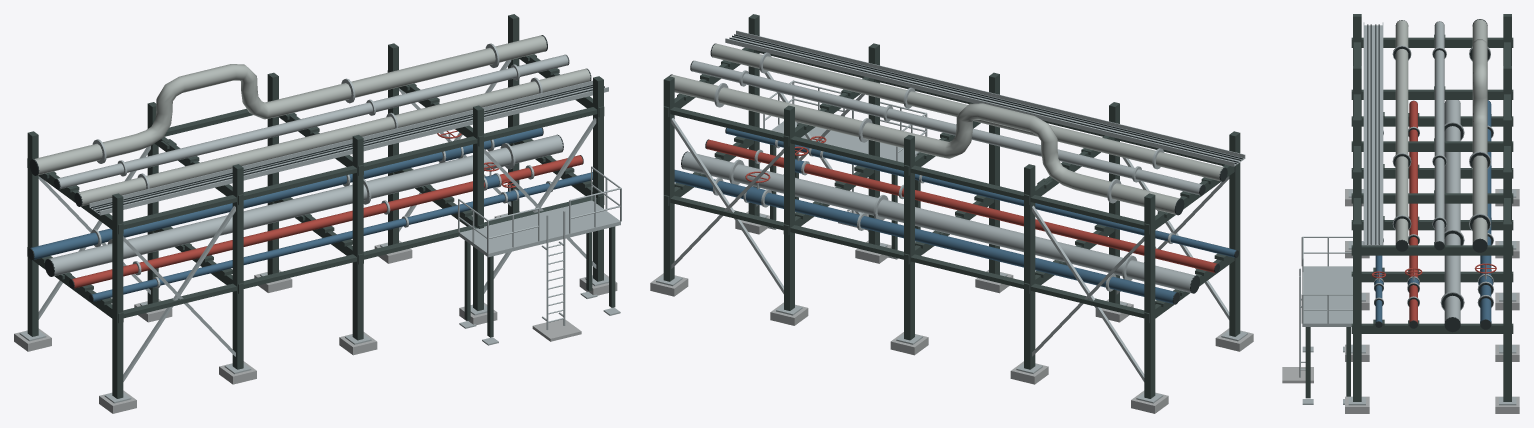
The model's file is process-pipe-rack.glb.
The picture shows the model from 3 angles, left to right: view 1: azimuth 30°, elevation 25°; view 2: azimuth 150°, elevation 25°; view 3: azimuth 270°, elevation 25°; orthographic projection. The views are drawn at different scales.
Visible parts, largest first — view 1: pipe_rack_structure_powder-coated-frame, process_utility_pipes_galvanized-steel, process_utility_pipes_brushed-metal-panels, process_utility_pipes_utility-blue, process-pipe-rack_galvanized-steel, pipe_rack_structure_galvanized-steel, process_utility_pipes_fire-protection-red, pipe_rack_structure_cast-concrete, process_utility_pipes_rubber-gaskets, process-pipe-rack_powder-coated-frame, process_utility_pipes_powder-coated-frame, process_utility_pipes_dark-service-metal (+1 smaller); view 2: pipe_rack_structure_powder-coated-frame, process_utility_pipes_galvanized-steel, process_utility_pipes_brushed-metal-panels, process_utility_pipes_utility-blue, pipe_rack_structure_galvanized-steel, process_utility_pipes_fire-protection-red, pipe_rack_structure_cast-concrete, process_utility_pipes_rubber-gaskets, process-pipe-rack_galvanized-steel, process_utility_pipes_powder-coated-frame, process_utility_pipes_dark-service-metal, process-pipe-rack_powder-coated-frame; view 3: pipe_rack_structure_powder-coated-frame, process_utility_pipes_galvanized-steel, process_utility_pipes_brushed-metal-panels, process-pipe-rack_galvanized-steel, process_utility_pipes_rubber-gaskets, pipe_rack_structure_cast-concrete, process_utility_pipes_fire-protection-red, process_utility_pipes_utility-blue, process_utility_pipes_dark-service-metal, process-pipe-rack_powder-coated-frame, pipe_rack_structure_galvanized-steel, process-pipe-rack_cast-concrete (+1 smaller).
Boxes of the visible parts, x1,y1,x2,y2 form: pipe_rack_structure_powder-coated-frame: [27, 14, 604, 398]; process_utility_pipes_galvanized-steel: [49, 43, 608, 288]; process_utility_pipes_brushed-metal-panels: [33, 35, 590, 206]; process_utility_pipes_utility-blue: [30, 127, 592, 301]; process-pipe-rack_galvanized-steel: [458, 166, 621, 345]; pipe_rack_structure_galvanized-steel: [19, 60, 608, 403]; process_utility_pipes_fire-protection-red: [72, 129, 583, 288]; pipe_rack_structure_cast-concrete: [14, 211, 617, 413]; process_utility_pipes_rubber-gaskets: [91, 84, 604, 212]; process-pipe-rack_powder-coated-frame: [464, 226, 615, 337]; process_utility_pipes_powder-coated-frame: [38, 54, 592, 304]; process_utility_pipes_dark-service-metal: [27, 35, 591, 302]; pipe_rack_structure_powder-coated-frame: [663, 14, 1240, 398]; process_utility_pipes_galvanized-steel: [681, 30, 1245, 293]; process_utility_pipes_brushed-metal-panels: [670, 43, 1224, 214]; process_utility_pipes_utility-blue: [674, 128, 1236, 303]; pipe_rack_structure_galvanized-steel: [656, 71, 1247, 403]; process_utility_pipes_fire-protection-red: [706, 136, 1216, 272]; pipe_rack_structure_cast-concrete: [650, 211, 1253, 413]; process_utility_pipes_rubber-gaskets: [729, 34, 1243, 164]; process-pipe-rack_galvanized-steel: [763, 80, 927, 259]; process_utility_pipes_powder-coated-frame: [674, 60, 1229, 307]; process_utility_pipes_dark-service-metal: [669, 43, 1238, 304]; process-pipe-rack_powder-coated-frame: [770, 144, 920, 249]; pipe_rack_structure_powder-coated-frame: [1351, 14, 1513, 401]; process_utility_pipes_galvanized-steel: [1363, 21, 1493, 322]; process_utility_pipes_brushed-metal-panels: [1395, 19, 1487, 244]; process-pipe-rack_galvanized-steel: [1299, 236, 1352, 404]; process_utility_pipes_rubber-gaskets: [1367, 24, 1493, 309]; pipe_rack_structure_cast-concrete: [1345, 189, 1519, 413]; process_utility_pipes_fire-protection-red: [1371, 101, 1496, 323]; process_utility_pipes_utility-blue: [1374, 100, 1492, 323]; process_utility_pipes_dark-service-metal: [1375, 19, 1491, 332]; process-pipe-rack_powder-coated-frame: [1305, 327, 1350, 398]; pipe_rack_structure_galvanized-steel: [1348, 189, 1516, 405]; process-pipe-rack_cast-concrete: [1282, 367, 1313, 383].
Size of the model in its own units: 18.03 by 8.3 by 8.22.
1 material, 1 textured.
